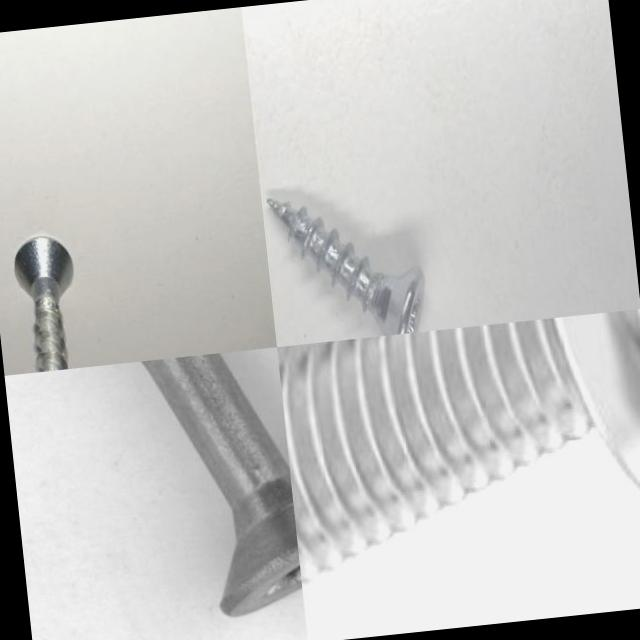Screw: (277, 308, 640, 582), (4, 346, 306, 640), (267, 199, 424, 335), (14, 237, 73, 372)
